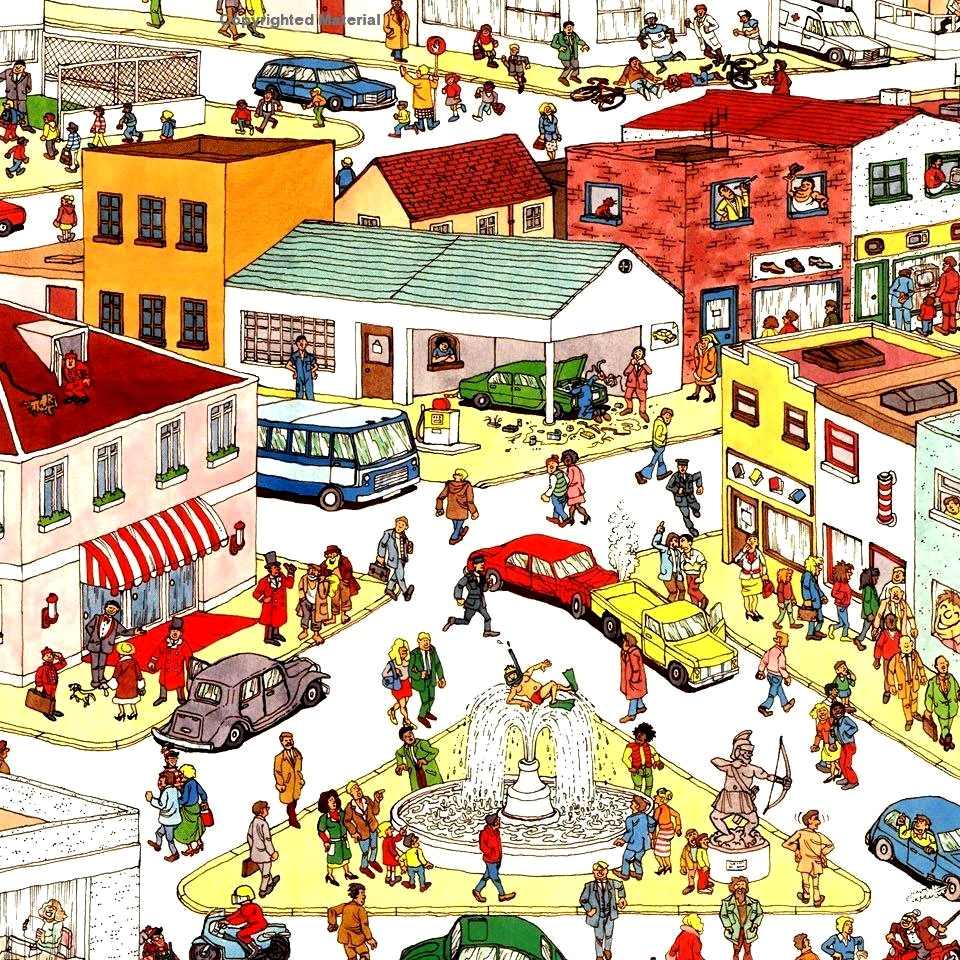waldo: (141, 924, 200, 960)
